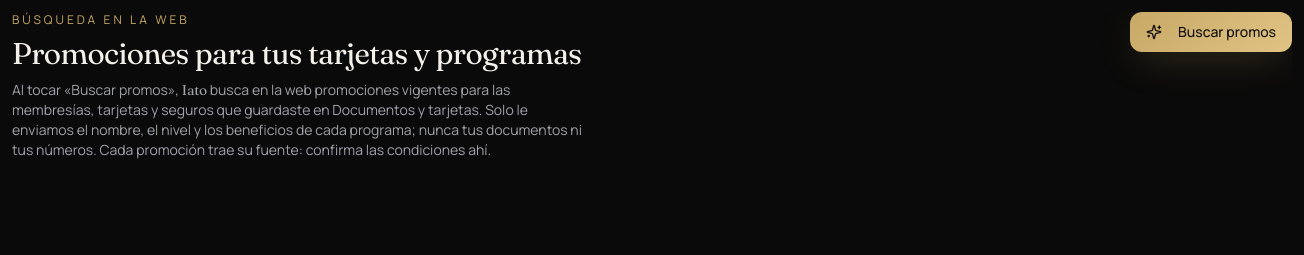
Scenario: PromocionesActivas (pantalla) › si la función falla muestra el motivo en español, nunca el texto técnico
Click the button "Buscar promos". click: (1211, 32)
box: [1130,12,1292,52]
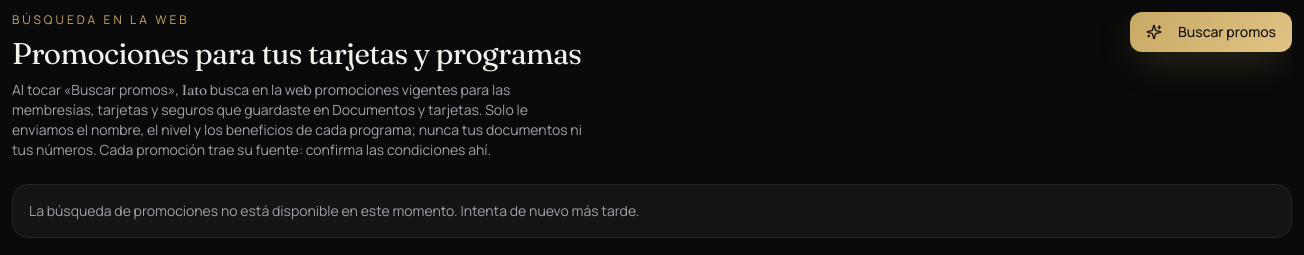
Check: the message shows "La búsqueda de promociones no está disponible en este momento.", box [29,201,639,220]
